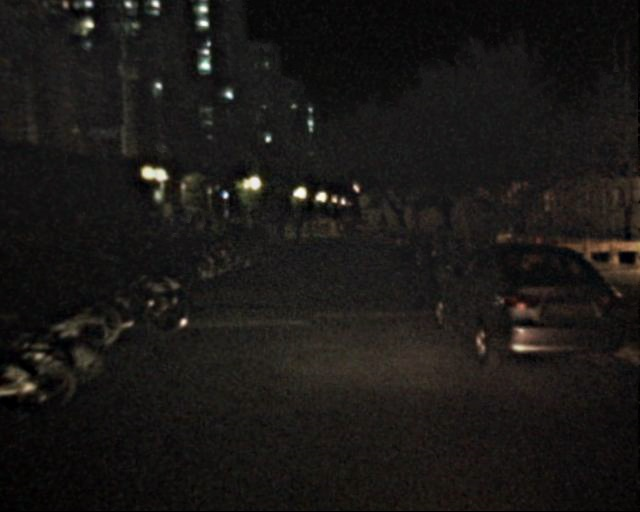person: (240, 213, 274, 234), (289, 206, 304, 243), (378, 213, 392, 246), (272, 210, 285, 242), (166, 214, 177, 242), (187, 211, 198, 237), (202, 214, 212, 238)
